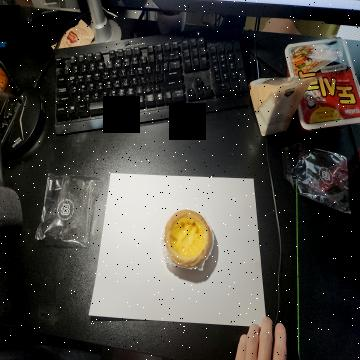EggTart: (164, 207, 212, 269)
